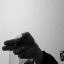h: (1, 31, 37, 61)
